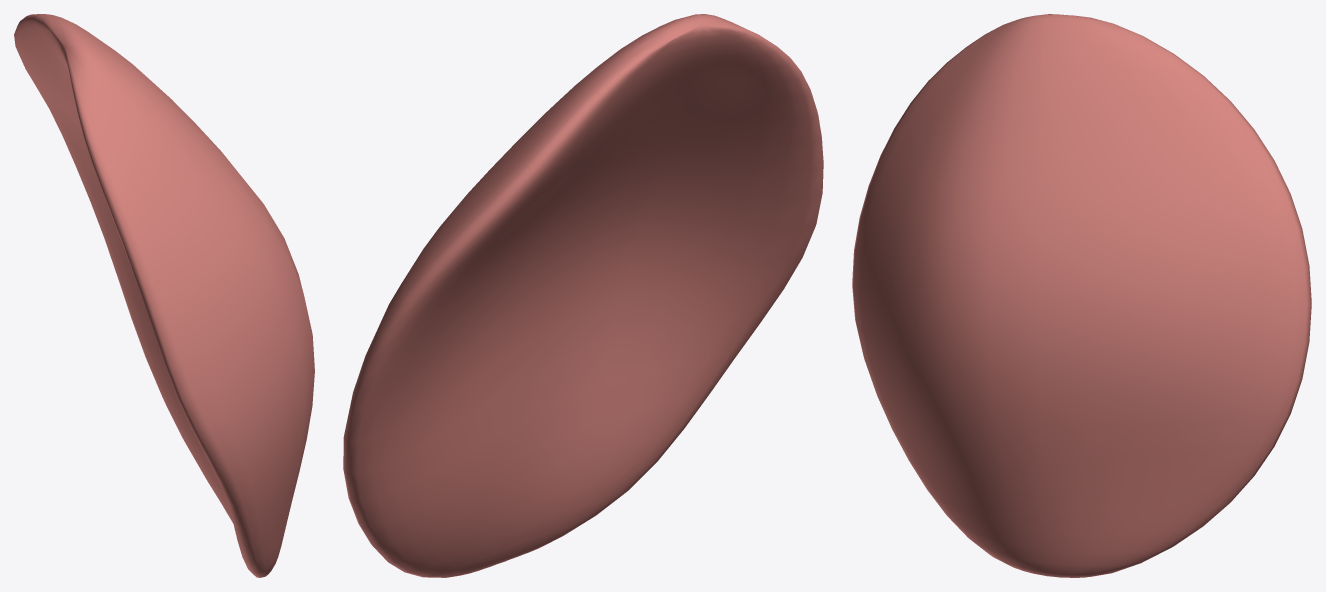
The picture shows the model from 3 angles, left to right: view 1: azimuth 30°, elevation 25°; view 2: azimuth 150°, elevation 25°; view 3: azimuth 270°, elevation 25°; orthographic projection. The views are drawn at different scales.
Visible parts, largest first — view 1: ZA_4f66edafc8f4b199; view 2: ZA_4f66edafc8f4b199; view 3: ZA_4f66edafc8f4b199.
Part boxes in pixels (x1,y1,x2,y2): ZA_4f66edafc8f4b199: (14, 14, 314, 577); ZA_4f66edafc8f4b199: (343, 14, 823, 577); ZA_4f66edafc8f4b199: (852, 14, 1311, 577).
Bounding box in the file's own units: 0.0135 × 0.0289 × 0.0249.
